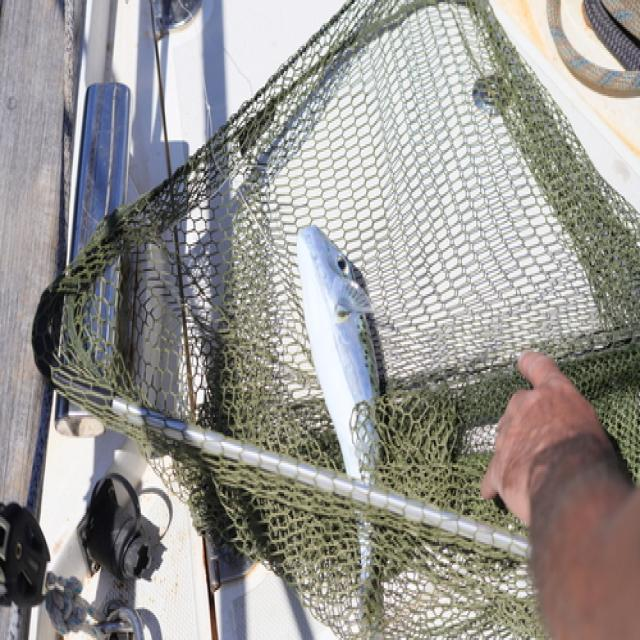Balik: (297, 227, 378, 482)
